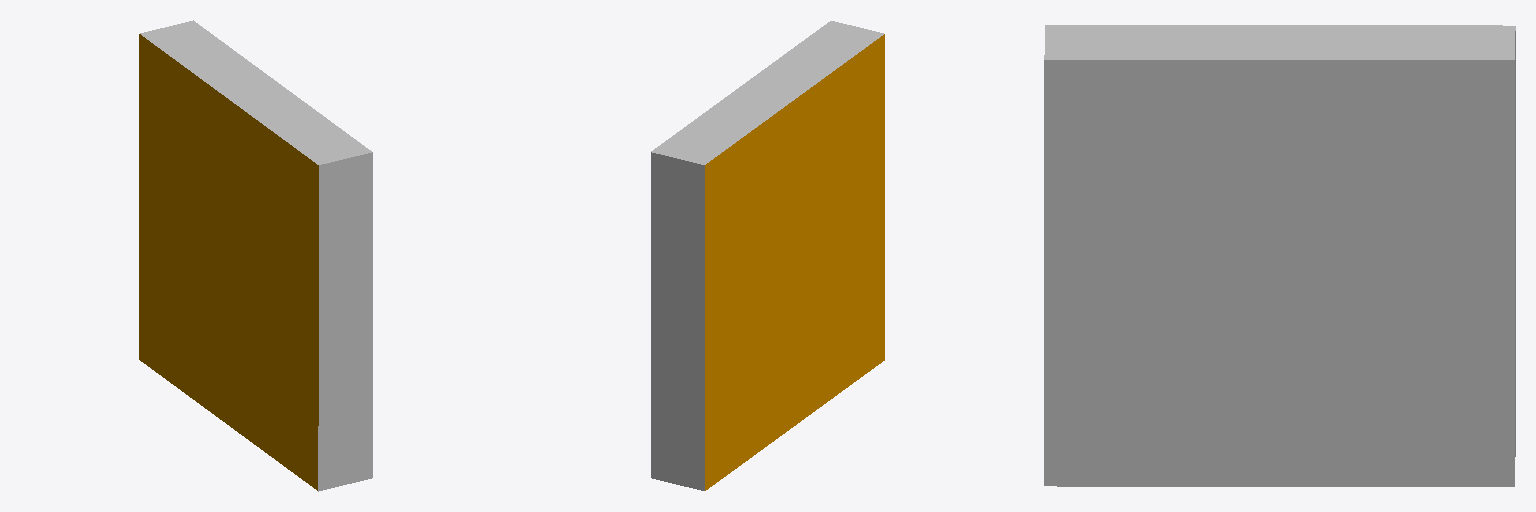
The robot description file, URDF, robot "ar_mark":
<?xml version="1.0" ?>

<!--Name of the robot: pan_tilt-->
<robot name="ar_mark">
    <!--First link: the base_link-->
    <link name="ar_link">
    	<inertial>
    	    <origin xyz="1 0 0" rpy="0 1.57 3.14"/>
            <mass value="1"/>
            <inertia ixx="0.074" ixy="0.0" ixz="0.0" iyy="0.06" iyz="0.0" izz="0.03"/>
        </inertial>
        <collision>
            <origin rpy="0 1.57 3.14" xyz="1 0 0"/>
            <geometry>
                <box size="0.2 0.2 0.2"/>
            </geometry>
        </collision>     
        
        <!--Grahical shape -->
        <visual>
            <origin rpy="0 1.57 3.14" xyz="1 0 0"/>
            <geometry>
                <mesh filename="package://kvaradrive/urdf/artag2.dae" scale="1 1 1"/>
            </geometry>
        </visual>
    </link>
    
    <gazebo reference="simple_box_base_link">
    	<kp>100000.0</kp>
    	<kd>100000.0</kd>
    	<mu1>0.1</mu1>
    	<mu2>0.1</mu2>
    	<fdir1>1 0 0</fdir1>
    </gazebo>
    	
   </robot>


	

--- Facts derived from the render (not from the file) ---
Views: 3 orthographic renders of the robot side by side, from view 1: azimuth 30°, elevation 25°; view 2: azimuth 150°, elevation 25°; view 3: azimuth 270°, elevation 25°.
Model ar_mark with 1 links and 0 joints (none), rooted at ar_link, posed all joints at 0.
Links seen in each view (by area): view 1: ar_link; view 2: ar_link; view 3: ar_link.
Boxes of the visible links, x1,y1,x2,y2 form: ar_link: (139, 20, 372, 491); ar_link: (651, 21, 884, 490); ar_link: (1044, 25, 1515, 486).
Bounding box of the posed robot: 0.0176 × 0.1 × 0.1 m (x, y, z).
1 mesh visuals loaded from 1 distinct referenced files (1 Collada DAE).
